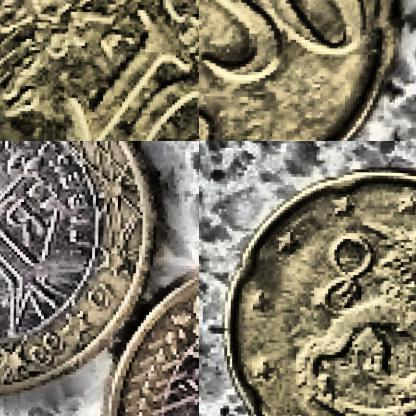coin: (214, 160, 415, 415), (0, 141, 154, 405), (0, 0, 198, 140), (199, 0, 397, 140)
